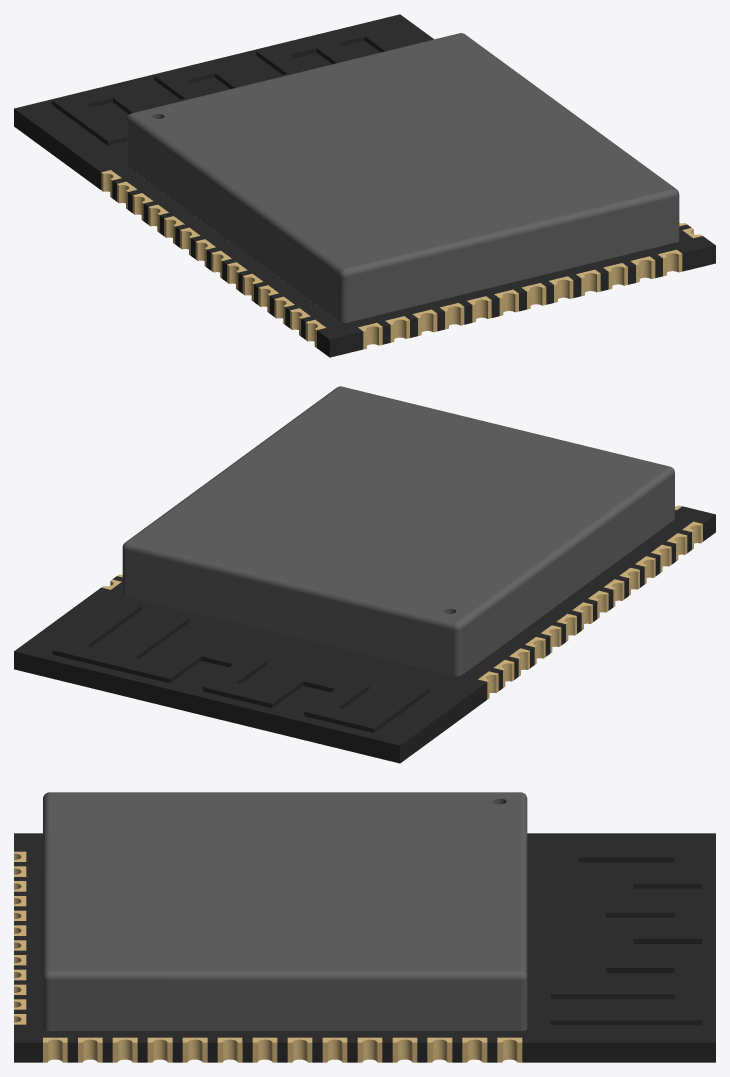
File: kc-esp32-s3-wroom-2.glb
3 views of the same model, one above another, from view 1: azimuth 30°, elevation 25°; view 2: azimuth 150°, elevation 25°; view 3: azimuth 270°, elevation 25° (orthographic). The views are drawn at different scales.
Parts seen in each view (by area): view 1: 0.08333333333333333_0.08333333333333333_0.08333333333333333_, 0_0_0_0, 0.75_0.5_0.25_0.9; view 2: 0.08333333333333333_0.08333333333333333_0.08333333333333333_, 0_0_0_0, 0.75_0.5_0.25_0.9; view 3: 0.08333333333333333_0.08333333333333333_0.08333333333333333_, 0_0_0_0, 0.75_0.5_0.25_0.9.
Part boxes in pixels (box(x1,y1,x2,y2)): 0.08333333333333333_0.08333333333333333_0.08333333333333333_: box(127, 33, 679, 322); 0_0_0_0: box(14, 14, 715, 357); 0.75_0.5_0.25_0.9: box(101, 170, 702, 349); 0.08333333333333333_0.08333333333333333_0.08333333333333333_: box(122, 386, 674, 676); 0_0_0_0: box(14, 506, 715, 763); 0.75_0.5_0.25_0.9: box(101, 505, 702, 699); 0.08333333333333333_0.08333333333333333_0.08333333333333333_: box(43, 792, 527, 1030); 0_0_0_0: box(14, 833, 715, 1062); 0.75_0.5_0.25_0.9: box(14, 851, 522, 1062).
Bounding box in the file's own units: 1.8 × 0.3099 × 2.55.
